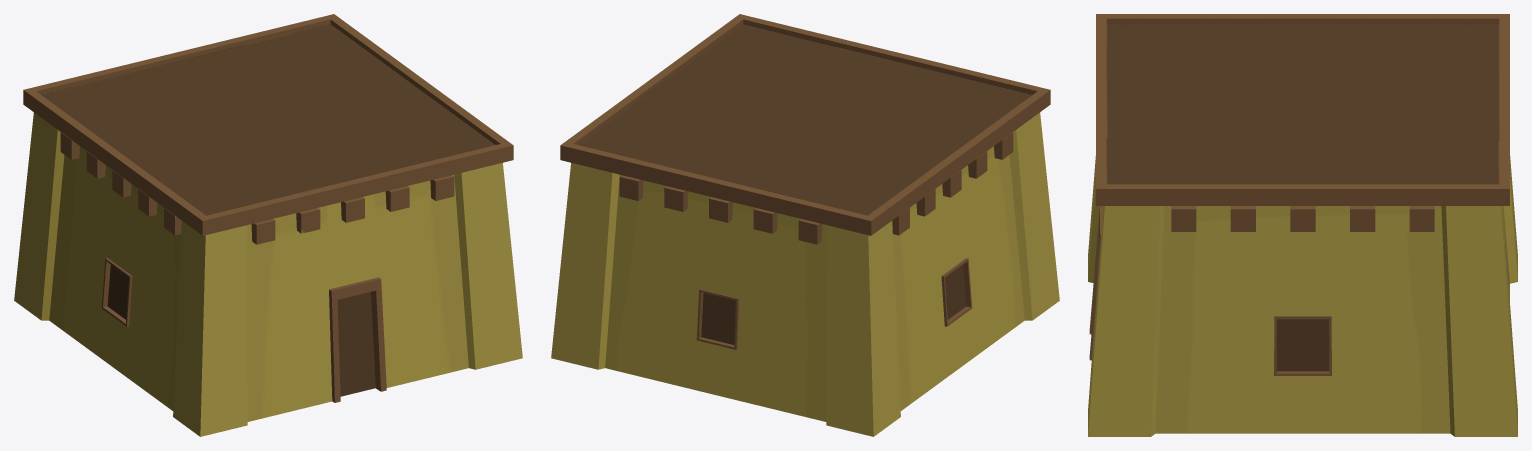
Rendered from pisecnyDomek.fbx.
3 renders of one model, left to right at view 1: azimuth 30°, elevation 25°; view 2: azimuth 150°, elevation 25°; view 3: azimuth 270°, elevation 25°, orthographic. The views are drawn at different scales.
Visible parts, largest first — view 1: PisecnyDum1; view 2: PisecnyDum1; view 3: PisecnyDum1.
Boxes of the visible parts, box(x1,y1,x2,y2) form: PisecnyDum1: box(14, 14, 522, 436); PisecnyDum1: box(551, 14, 1059, 436); PisecnyDum1: box(1088, 14, 1517, 436).
Bounding box in the file's own units: 685 × 430 × 685.
1 material, 1 textured.
